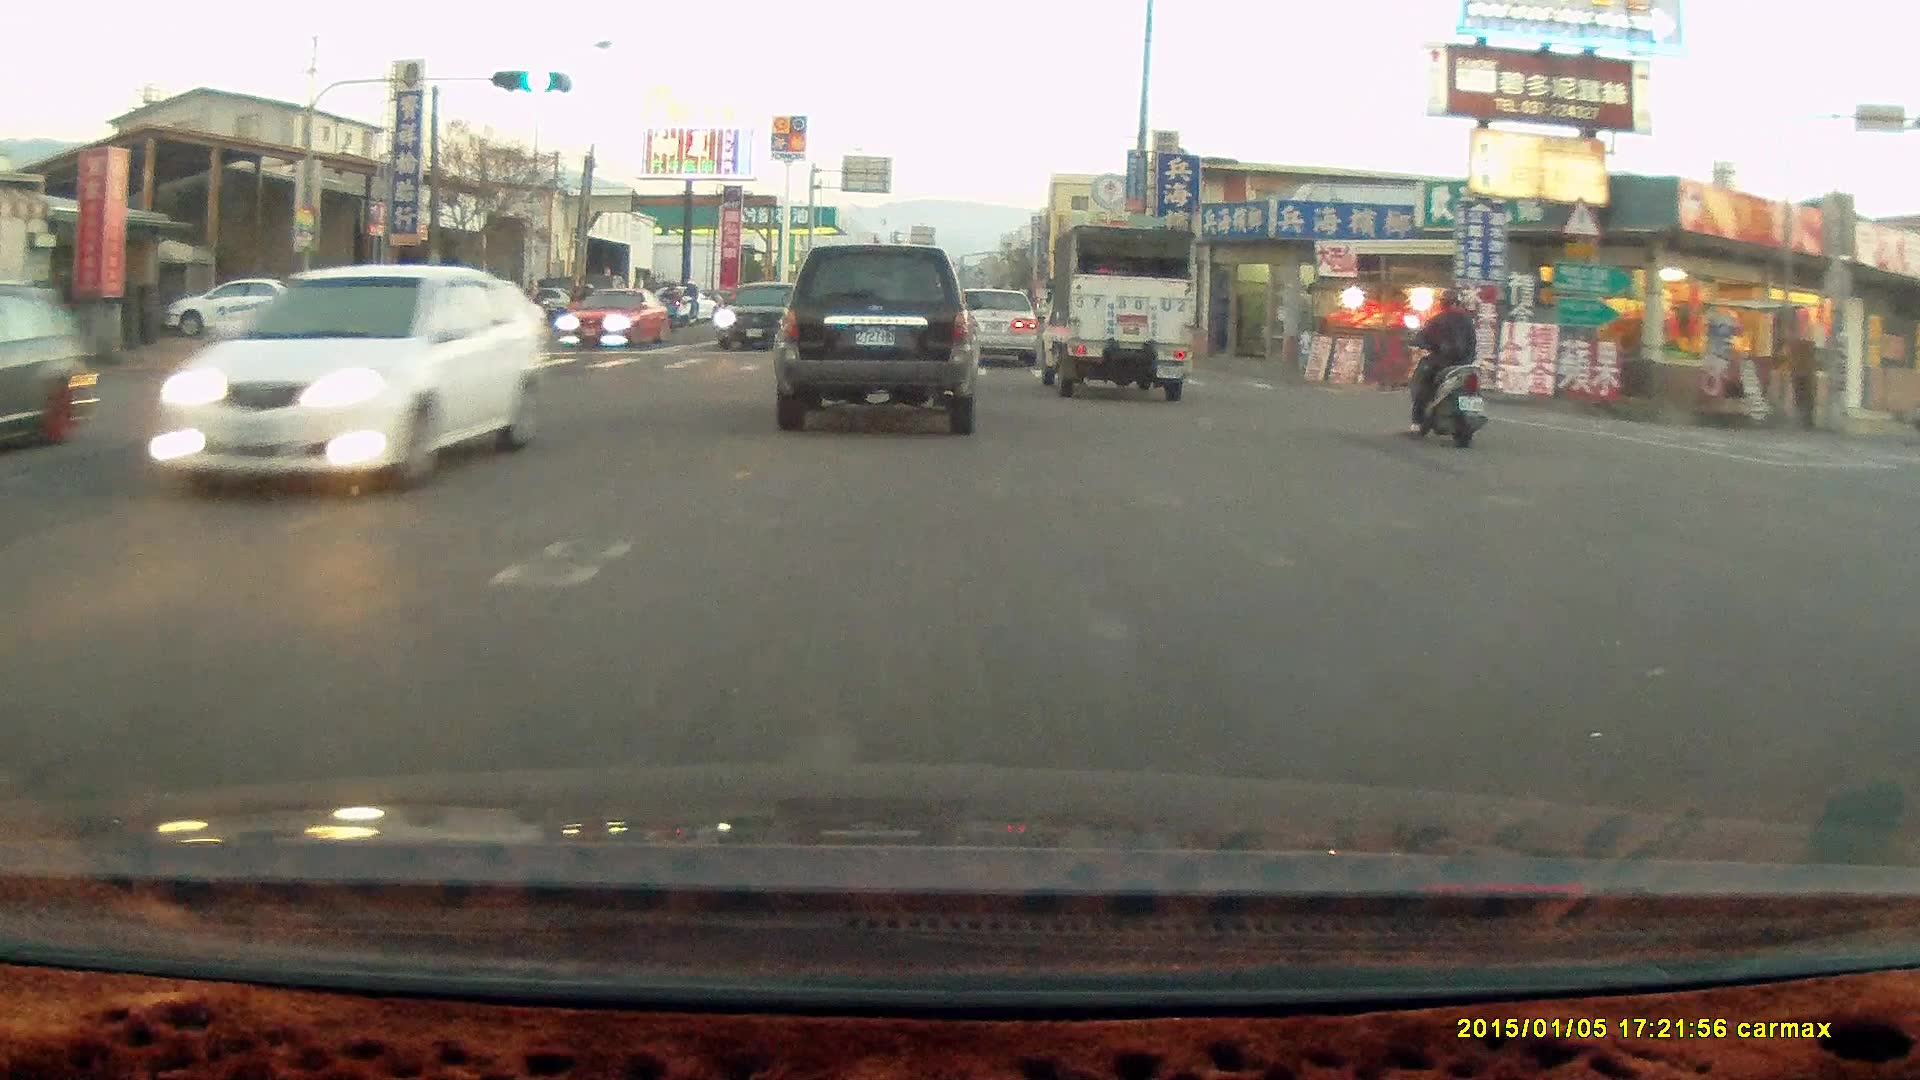rider: (1401, 284, 1488, 444), (671, 279, 701, 328)
vehicle: (146, 262, 551, 499), (771, 243, 984, 435), (1032, 225, 1197, 402), (347, 284, 534, 394), (1, 282, 95, 457), (168, 279, 315, 333), (715, 281, 822, 353), (943, 286, 1037, 368), (951, 288, 1041, 369), (571, 285, 669, 351)
